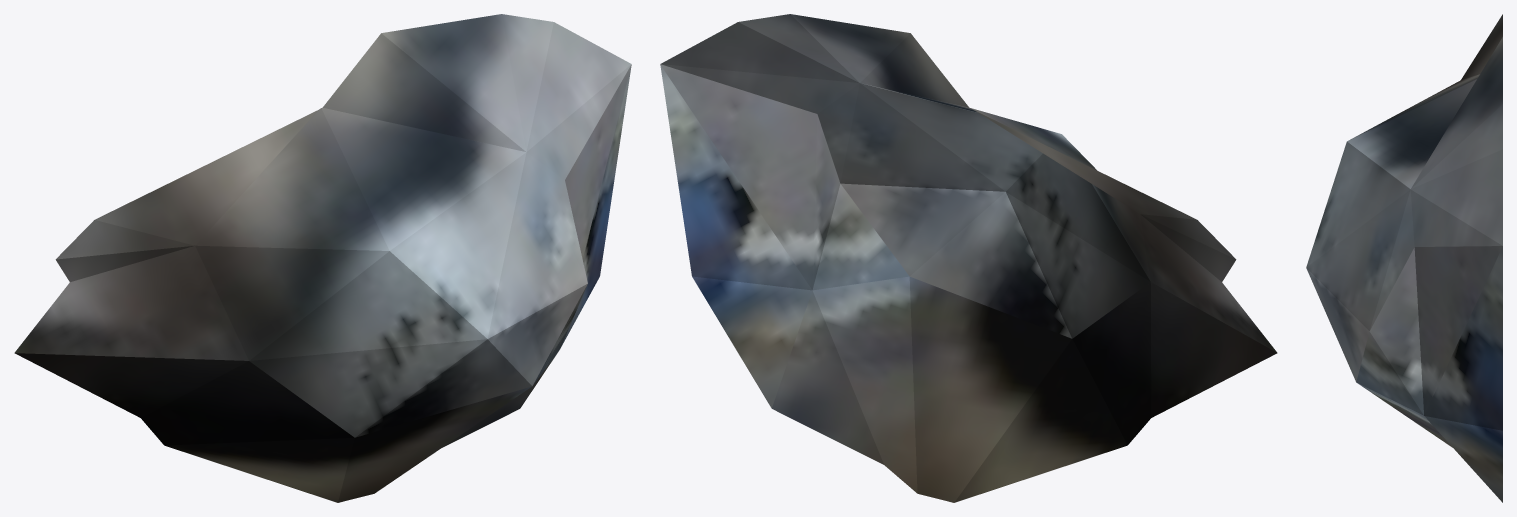
3 renders of one model, left to right at view 1: azimuth 30°, elevation 25°; view 2: azimuth 150°, elevation 25°; view 3: azimuth 270°, elevation 25°, orthographic. The views are drawn at different scales.
Bounding box in the file's own units: 0.282 × 0.2004 × 0.0796.
Materials: 1 (1 with a texture image).
